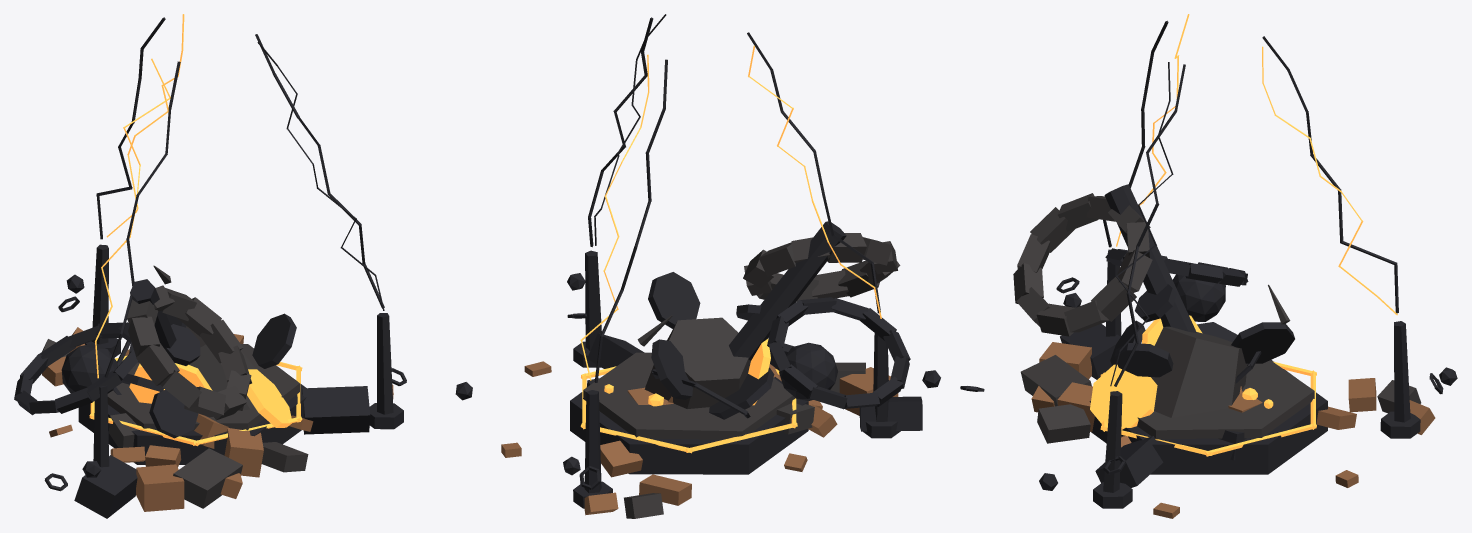
File: Wreck_ArcCoil.fbx
The picture shows the model from 3 angles, left to right: view 1: azimuth 30°, elevation 25°; view 2: azimuth 150°, elevation 25°; view 3: azimuth 270°, elevation 25°; orthographic projection.
Visible parts, largest first — view 1: Wreck_ArcCoil; view 2: Wreck_ArcCoil; view 3: Wreck_ArcCoil.
Boxes of the visible parts, x1,y1,x2,y2 form: Wreck_ArcCoil: (14, 14, 472, 518); Wreck_ArcCoil: (501, 14, 984, 518); Wreck_ArcCoil: (1013, 14, 1457, 518).
Size of the model in its own units: 1.48 by 1.39 by 1.34.
